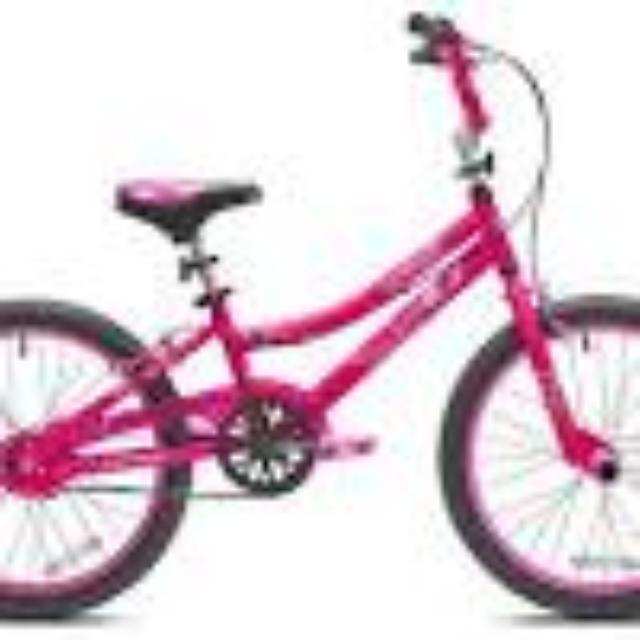obstacle: (3, 13, 640, 640), (639, 13, 640, 640)
